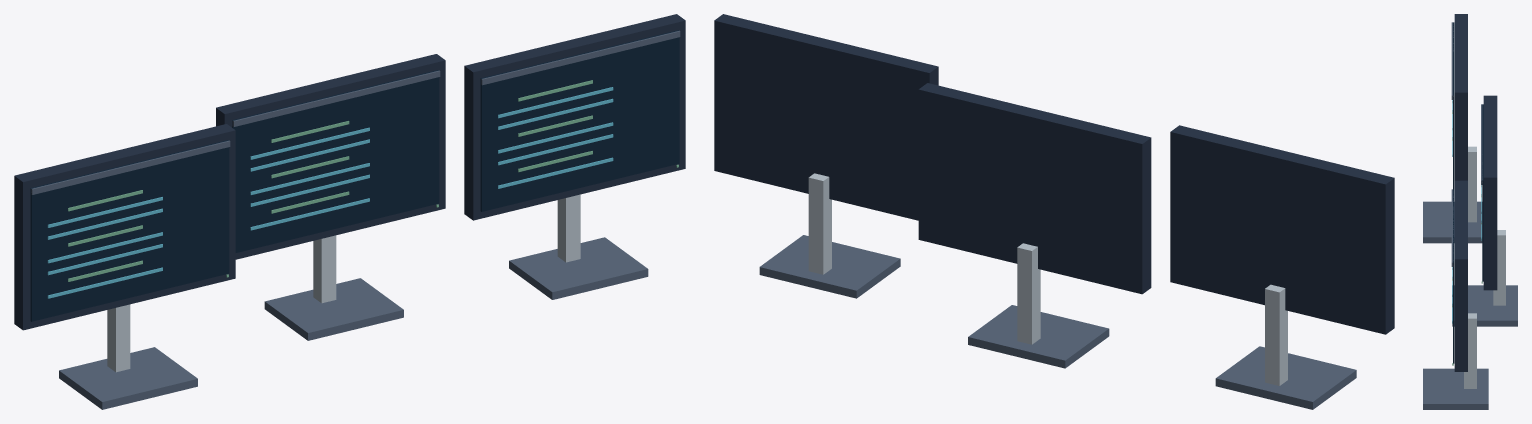
Rendered from officeTripleMonitor.glb.
The picture shows the model from 3 angles, left to right: view 1: azimuth 30°, elevation 25°; view 2: azimuth 150°, elevation 25°; view 3: azimuth 270°, elevation 25°; orthographic projection. The views are drawn at different scales.
Size of the model in its own units: 1.59 by 0.52 by 0.26.
